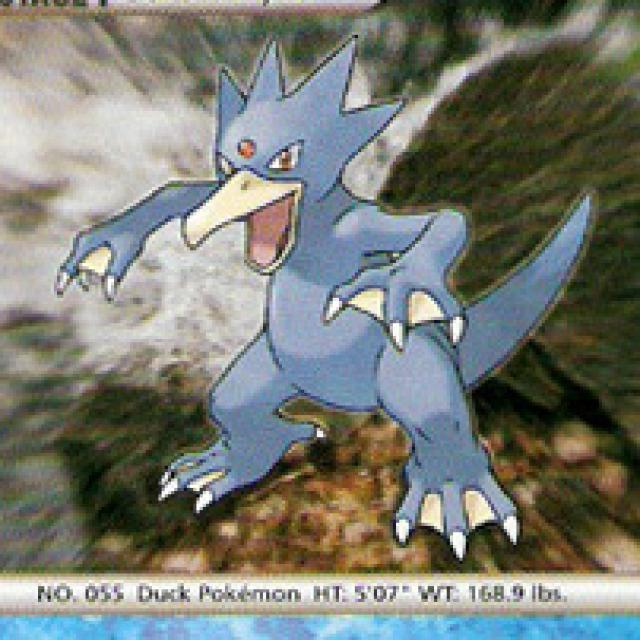Golduck: (184, 39, 494, 546)
